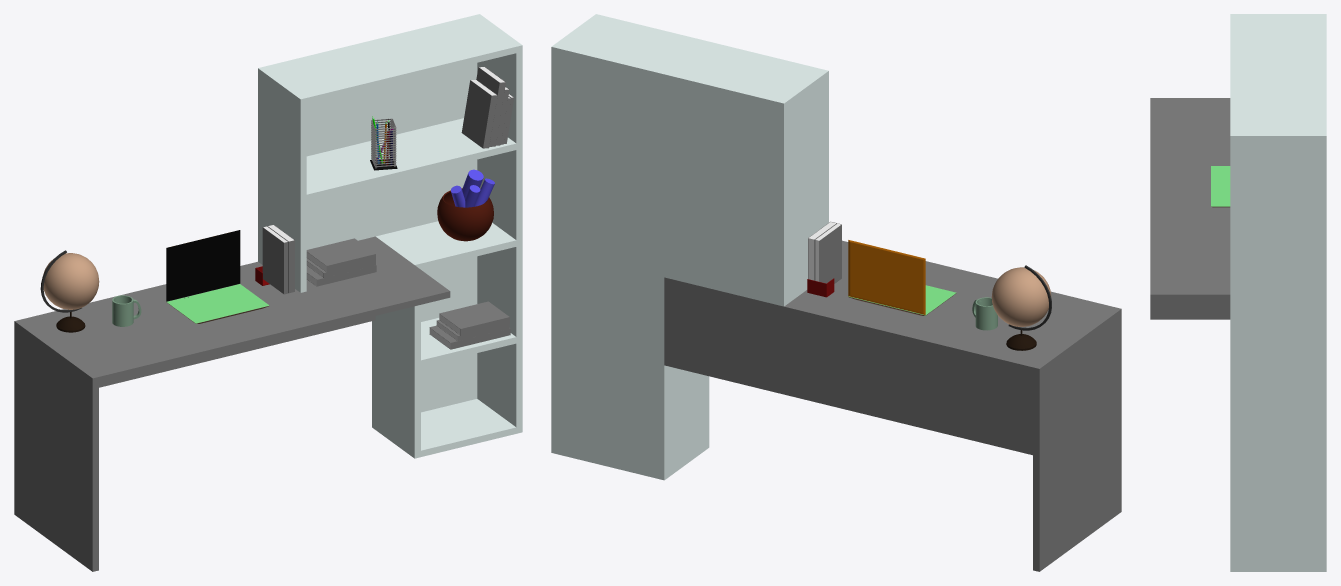
The model's file is uploads_files_3268444_study+table.FBX.
3 views of the same model, side by side, from view 1: azimuth 30°, elevation 25°; view 2: azimuth 150°, elevation 25°; view 3: azimuth 270°, elevation 25° (orthographic). The views are drawn at different scales.
Parts seen in each view (by area): view 1: Box008, Box001, Box007, Box003, Box005, Box006, Box015, Sphere001, Box010, Sphere003, Box022, Box020 (+6 smaller); view 2: Box008, Box009, Box007, Box003, Box005, Box001, Box006, Box015, Sphere001, Box020, Box010; view 3: Box008, Box001, Box005, Box006, Box007, Box003, Box010.
Part boxes in pixels (box(x1,y1,x2,y2)): Box008: box(258, 14, 522, 195); Box001: box(14, 236, 450, 384); Box007: box(258, 118, 522, 292); Box003: box(14, 328, 98, 571); Box005: box(372, 318, 522, 458); Box006: box(372, 221, 522, 361); Box015: box(166, 230, 240, 301); Sphere001: box(43, 253, 99, 309); Box010: box(166, 284, 269, 323); Sphere003: box(437, 188, 493, 241); Box022: box(461, 79, 497, 148); Box020: box(262, 226, 288, 294); Box008: box(551, 14, 828, 204); Box009: box(664, 284, 1032, 455); Box007: box(551, 148, 828, 306); Box003: box(1033, 316, 1121, 571); Box005: box(551, 351, 709, 480); Box001: box(664, 240, 1121, 375); Box006: box(551, 250, 677, 378); Box015: box(848, 240, 925, 314); Sphere001: box(991, 267, 1051, 326); Box020: box(815, 223, 841, 283); Box010: box(848, 285, 956, 315); Box008: box(1230, 14, 1326, 244); Box001: box(1150, 98, 1230, 301); Box005: box(1230, 463, 1326, 571); Box006: box(1230, 354, 1326, 462); Box007: box(1230, 245, 1326, 353); Box003: box(1150, 302, 1230, 319); Box010: box(1211, 166, 1230, 207).
Bounding box in the file's own units: 75.5 × 60.18 × 22.
